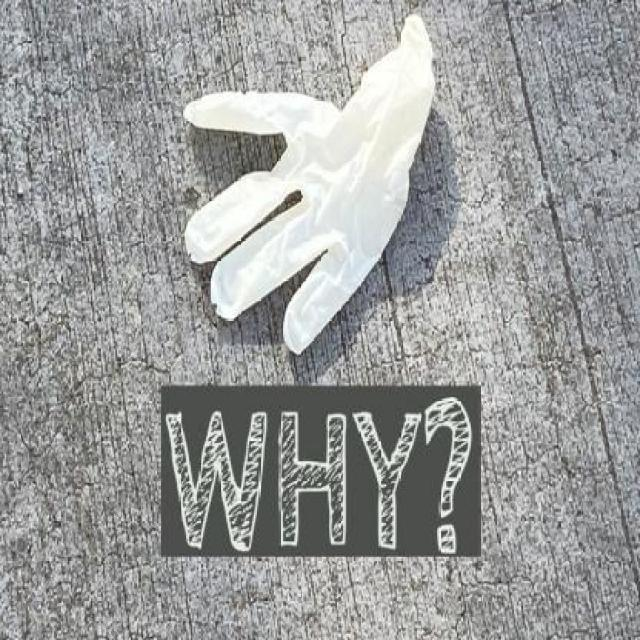glove_hand: (172, 16, 460, 356)
